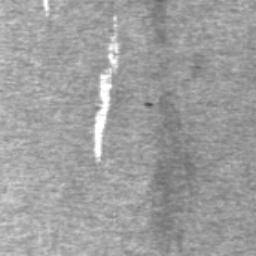White rust: (93, 35, 119, 162)
